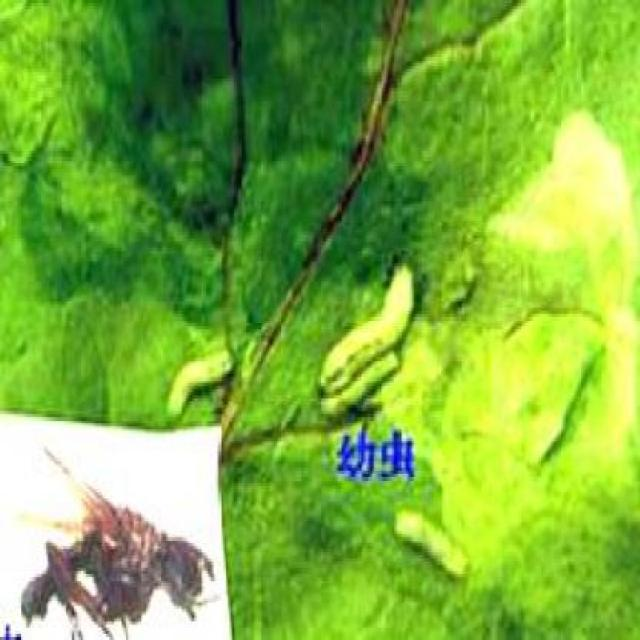whorl-maggot: (313, 255, 419, 416), (390, 503, 472, 582), (162, 330, 236, 416)
